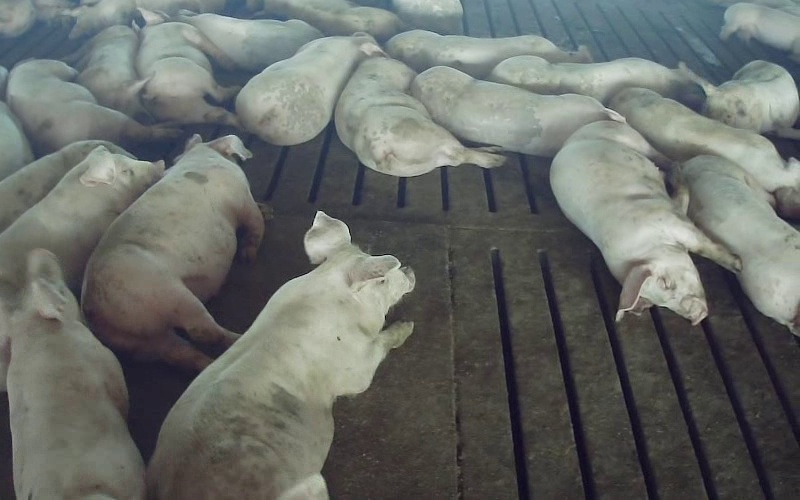pig: (149, 212, 412, 499), (82, 135, 263, 370), (0, 146, 163, 390), (550, 121, 740, 323), (7, 249, 144, 499), (335, 43, 504, 176), (681, 155, 799, 335), (609, 88, 799, 192), (7, 60, 179, 153), (236, 35, 373, 145), (136, 8, 238, 125), (385, 30, 591, 78), (489, 56, 690, 103), (679, 60, 799, 138), (173, 9, 322, 71), (65, 25, 148, 118)
